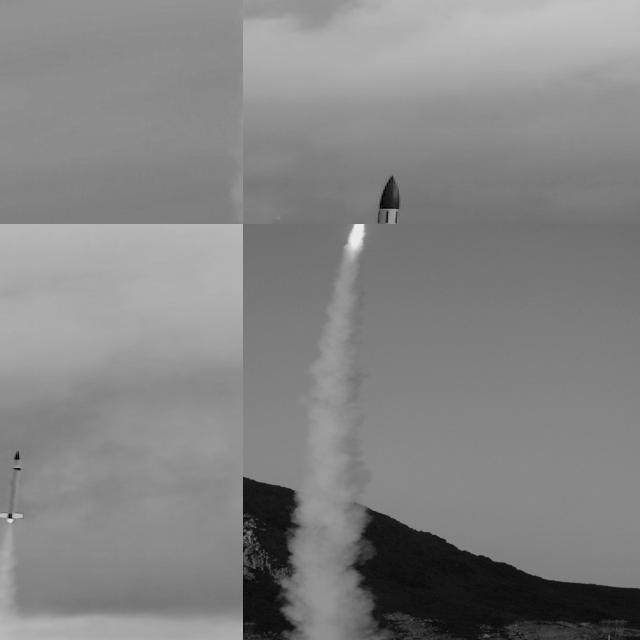Rocket: (343, 174, 400, 224), (0, 450, 24, 519)
